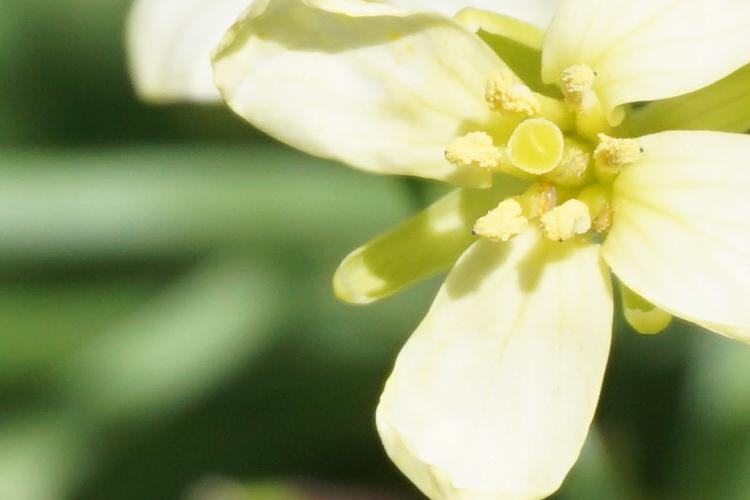white: (222, 11, 750, 484)
